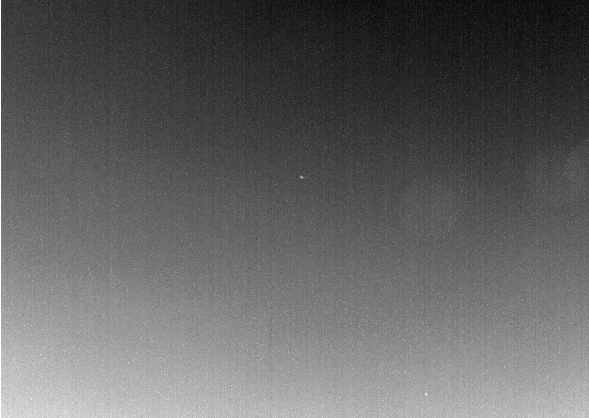dim target: (299, 174, 304, 180), (424, 392, 428, 396)
